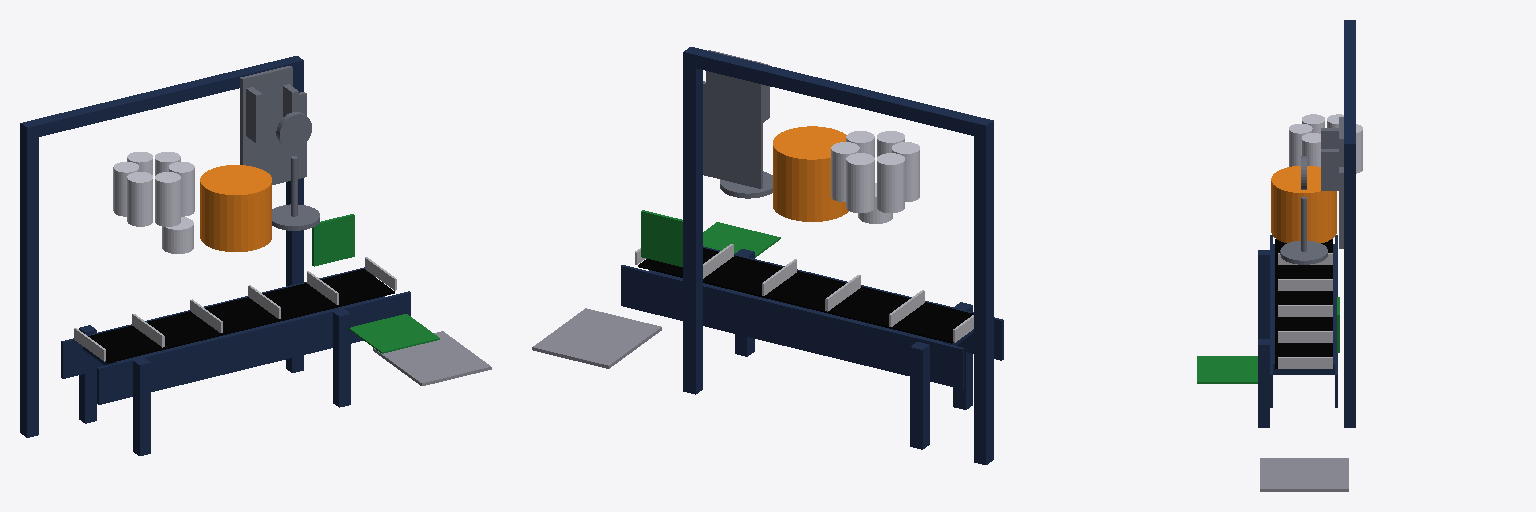
The robot description file, URDF, robot "cinta_vasos":
<?xml version="1.0"?>
<!--
  Cinta indexada de la estacion de embalaje (docs/especificacion.md, seccion 4 y seccion
  5, pasos 9 a 13). 5 estaciones: verificacion antes de llenado, llenado,
  estacion de tapa (con re-verificacion), prensa, descarga.

  Unidades en metros. Casillas de 0.08 m (config/parametros.yaml,
  vasos.separacion_casilla_mm): a diferencia de la cinta de monedas (0.04
  m), aqui cada casilla tiene que encajar la base de un vaso de 62 mm de
  diametro con margen, y con la separacion de 0.04 m que se uso en la fase
  2 dos vasos en casillas vecinas quedaban encimados (no se notaba porque
  la demo de la fase 2 solo ponia un vaso a la vez en la cinta). Si cambia
  el diametro real del vaso (valor PROVISIONAL), hay que regenerar las
  posiciones de separadores/empujador de este archivo y
  `SEPARACION_CASILLA_VASOS_M` / `_ORIGEN_X_VASOS` en sim/mundo.py.

  Estaciones en x local: -0.16, -0.08, 0.00, 0.08, 0.16.

  El tubo de tapas, la prensa y el embudo son SOLO visuales (sin
  <collision>): sirven para que en el GUI se entienda que pasa en cada
  estacion, pero no deben interceptar los rayTest de las barreras ni de la
  cortina de seguridad (sim/sensores_sim.py), que solo ven geometria de
  colision. El empujador tambien es visual-only, igual que los expulsores
  de la cinta de monedas: el desplazamiento real del vaso lo hace
  sim/mundo.py por control de posicion, no por contacto fisico.
-->
<robot name="cinta_vasos">

  <material name="azul_bancada"><color rgba="0.15 0.22 0.35 1.0"/></material>
  <material name="negro_cinta"><color rgba="0.04 0.04 0.04 1.0"/></material>
  <material name="gris_separador"><color rgba="0.75 0.75 0.78 1.0"/></material>
  <material name="verde_empujador"><color rgba="0.15 0.55 0.25 1.0"/></material>
  <material name="gris_salida"><color rgba="0.6 0.6 0.65 0.9"/></material>
  <material name="tubo_tapas"><color rgba="0.95 0.55 0.15 0.45"/></material>
  <material name="acero_prensa"><color rgba="0.45 0.47 0.52 1.0"/></material>
  <material name="embudo"><color rgba="0.8 0.8 0.85 0.5"/></material>

  <link name="bancada">
    <inertial>
      <mass value="4.0"/>
      <inertia ixx="0.02" ixy="0.0" ixz="0.0" iyy="0.06" iyz="0.0" izz="0.06"/>
    </inertial>

    <!-- Maqueta impresa (2026-10-24, maqueta_impresa/scad/cinta_vasos.scad): bancada de PLA (dos mitades,
         vas_bancada_a/b) de x 13 a 383 mm del mundo (2026-10-25: termina 4 mm antes para que el rodillo
         de x 400 corra en su tensor hasta x 396), entre las dos laterales (y -140,3 a -59,7) y de
         z 104 a 119,9 (dentro del lazo de la banda). Antes 400 x 80 x 20 (inventario 19.3). -->
    <visual>
      <geometry><box size="0.370 0.0806 0.0159"/></geometry>
      <origin xyz="-0.002 0 0.01195" rpy="0 0 0"/>
      <material name="azul_bancada"/>
    </visual>
    <collision>
      <geometry><box size="0.370 0.0806 0.0159"/></geometry>
      <origin xyz="-0.002 0 0.01195" rpy="0 0 0"/>
    </collision>
    <!-- Placas laterales impresas (vas_lat_s, vas_lat_n; antes aluminio): 4 mm, z 72 a 120. -->
    <visual><geometry><box size="0.43 0.004 0.048"/></geometry><origin xyz="0 -0.0425 -0.004" rpy="0 0 0"/><material name="azul_bancada"/></visual>
    <visual><geometry><box size="0.43 0.004 0.048"/></geometry><origin xyz="0 0.0425 -0.004" rpy="0 0 0"/><material name="azul_bancada"/></visual>

    <visual>
      <geometry><box size="0.395 0.075 0.002"/></geometry>
      <origin xyz="0 0 0.021" rpy="0 0 0"/>
      <material name="negro_cinta"/>
    </visual>
    <collision>
      <geometry><box size="0.395 0.075 0.002"/></geometry>
      <origin xyz="0 0 0.021" rpy="0 0 0"/>
    </collision>

    <!-- Patas: la cinta de vasos va sobre una mesa de 10 cm (ver
         ALTURA_MESA_VASOS en sim/mundo.py: la canaleta de entrega necesita
         esa altura para que el vaso colgado no toque el piso). Maqueta impresa: 4 tubos 16 x 16 con
         la punta en z 120 a los que se remachan las laterales: (40; -152,5), (315; -152,5),
         (30; -40,5) y la columna +x del portico (315; -40,5), que sube hasta la viga (y -40,5,
         z 400) junto con la columna (-50; -40,5). Antes 4 patas de 14 x 14 en x 0,01 / 0,39
         (inventario 19.2). Marco local: mundo menos (0,20; -0,10; 0,10). -->
    <visual><geometry><box size="0.016 0.016 0.12"/></geometry><origin xyz="-0.16 -0.0525 -0.04" rpy="0 0 0"/><material name="azul_bancada"/></visual>
    <visual><geometry><box size="0.016 0.016 0.12"/></geometry><origin xyz="0.115 -0.0525 -0.04" rpy="0 0 0"/><material name="azul_bancada"/></visual>
    <visual><geometry><box size="0.016 0.016 0.12"/></geometry><origin xyz="-0.17 0.0595 -0.04" rpy="0 0 0"/><material name="azul_bancada"/></visual>
    <visual><geometry><box size="0.016 0.016 0.408"/></geometry><origin xyz="0.115 0.0595 0.104" rpy="0 0 0"/><material name="azul_bancada"/></visual>
    <visual><geometry><box size="0.016 0.016 0.408"/></geometry><origin xyz="-0.25 0.0595 0.104" rpy="0 0 0"/><material name="azul_bancada"/></visual>
    <visual><geometry><box size="0.381 0.016 0.016"/></geometry><origin xyz="-0.0675 0.0595 0.30" rpy="0 0 0"/><material name="azul_bancada"/></visual>

    <!-- Separadores: 6 delimitan las 5 casillas/estaciones, de x=-0.20 a x=0.20 (la banda real lleva 11 a L/11 =
         79,6 mm, 5 en el ramal de abajo, que aqui no se dibuja; cada 80: < 1,2 mm de diferencia). Maqueta impresa:
         75 mm (el ancho de la banda) menos 3 recortados del lado -y (vas_recorte_sep): 72 mm.
         Visual-only a proposito: un separador con colision chocaria con la
         base del vaso cada vez que sim/mundo.py lo reposiciona. -->
    <visual><geometry><box size="0.003 0.072 0.015"/></geometry><origin xyz="-0.20 0.0015 0.0295" rpy="0 0 0"/><material name="gris_separador"/></visual>
    <visual><geometry><box size="0.003 0.072 0.015"/></geometry><origin xyz="-0.12 0.0015 0.0295" rpy="0 0 0"/><material name="gris_separador"/></visual>
    <visual><geometry><box size="0.003 0.072 0.015"/></geometry><origin xyz="-0.04 0.0015 0.0295" rpy="0 0 0"/><material name="gris_separador"/></visual>
    <visual><geometry><box size="0.003 0.072 0.015"/></geometry><origin xyz="0.04 0.0015 0.0295" rpy="0 0 0"/><material name="gris_separador"/></visual>
    <visual><geometry><box size="0.003 0.072 0.015"/></geometry><origin xyz="0.12 0.0015 0.0295" rpy="0 0 0"/><material name="gris_separador"/></visual>
    <visual><geometry><box size="0.003 0.072 0.015"/></geometry><origin xyz="0.20 0.0015 0.0295" rpy="0 0 0"/><material name="gris_separador"/></visual>

    <!-- Tolva sobre la estacion de llenado (x=-0.08): recibe el lote que
         suelta la compuerta de un tubo del almacen y lo lleva al vaso. Los 5
         tubos y el compartimiento "otras" (POSICIONES_CARRUSEL en sim/mundo.py) van justo encima; aqui se dibujan
         como cilindros traslucidos, solo visuales. -->
    <!-- (2026-09-28, fisica vs 3D) Tolva y tubos en el MISMO lugar que sim/mundo.py y el visor:
         tolva de radio 19 mm entre z = TUBO_BASE_Z - 40 mm y TUBO_BASE_Z - 8 mm, justo sobre el
         llenado; los 6 tubos (interior 29 mm + 1 mm de pared) alrededor de centro_carrusel(), en
         reposo (tubo de $50 en la carga), de TUBO_BASE_Z a TUBO_BASE_Z + TUBO_ALTO_M. Antes la
         tolva tenia 50 mm de radio y los tubos estaban centrados en el llenado (no en el carrusel),
         7 mm mas altos: las monedas guardadas quedaban fuera de sus tubos. -->
    <visual>
      <geometry><cylinder radius="0.019" length="0.032"/></geometry>
      <origin xyz="-0.08 0 0.1460" rpy="0 0 0"/>
      <material name="embudo"/>
    </visual>
    <visual><geometry><cylinder radius="0.0155" length="0.058"/></geometry><origin xyz="-0.09650 0.06158 0.1990" rpy="0 0 0"/><material name="embudo"/></visual>
    <visual><geometry><cylinder radius="0.0155" length="0.058"/></geometry><origin xyz="-0.12508 0.04508 0.1990" rpy="0 0 0"/><material name="embudo"/></visual>
    <visual><geometry><cylinder radius="0.0155" length="0.058"/></geometry><origin xyz="-0.12508 0.01208 0.1990" rpy="0 0 0"/><material name="embudo"/></visual>
    <visual><geometry><cylinder radius="0.0155" length="0.058"/></geometry><origin xyz="-0.09650 -0.00442 0.1990" rpy="0 0 0"/><material name="embudo"/></visual>
    <visual><geometry><cylinder radius="0.0155" length="0.058"/></geometry><origin xyz="-0.06792 0.01208 0.1990" rpy="0 0 0"/><material name="embudo"/></visual>
    <visual><geometry><cylinder radius="0.0155" length="0.058"/></geometry><origin xyz="-0.06792 0.04508 0.1990" rpy="0 0 0"/><material name="embudo"/></visual>

    <!-- Tubo vertical de tapas sobre la estacion de tapa (x=0.00). Maqueta impresa (tap_tubo): una
         pieza de PLA, cabezal desde z 225 (13 mm sobre la boca del vaso) y tubo de 86 mm de diametro
         exterior hasta z 300. Antes r 34 de z 0,25 a 0,35 (inventario 19.5). -->
    <visual>
      <geometry><cylinder radius="0.043" length="0.075"/></geometry>
      <origin xyz="0.0 0 0.1625" rpy="0 0 0"/>
      <material name="tubo_tapas"/>
    </visual>

    <!-- Prensa sobre la estacion de prensa (x=0.08), maqueta impresa (tap_pre_*): placa de PLA en
         la cara -y de la viga (x 235-304, y -54,7 a -48,7, z 257-406 del mundo) que sigue hasta x 323
         (z 257-367) frente a la columna t_F5-P2_2, a la que va remachada; los separadores del MG996R
         siguen como costillas (x 240-248,95 y 290,05-299, y -78,2 a -54,7, desde z 330 hasta 393 la
         de -x y 385 la de +x). Leva de 45 mm con 7 de excentricidad (tap_exc: el piston baja 14, sin
         resorte limitador) en el eje del MG996R (z 339,5; dibujada a 0 grados, centro en 346,5) y
         plato de 62 mm abajo en z 229 (piston arriba) con su vastago de 8 mm. Antes: columna + plato
         r 28 en z 0,285 (inventario 19.6). -->
    <visual>
      <geometry><box size="0.069 0.006 0.149"/></geometry>
      <origin xyz="0.0695 0.0483 0.2315" rpy="0 0 0"/>
      <material name="acero_prensa"/>
    </visual>
    <visual><geometry><box size="0.019 0.006 0.110"/></geometry><origin xyz="0.1135 0.0483 0.212" rpy="0 0 0"/><material name="acero_prensa"/></visual>
    <visual><geometry><box size="0.00895 0.0235 0.063"/></geometry><origin xyz="0.044475 0.03355 0.2615" rpy="0 0 0"/><material name="acero_prensa"/></visual>
    <visual><geometry><box size="0.00895 0.0235 0.055"/></geometry><origin xyz="0.094525 0.03355 0.2575" rpy="0 0 0"/><material name="acero_prensa"/></visual>
    <visual>
      <geometry><cylinder radius="0.0225" length="0.008"/></geometry>
      <origin xyz="0.08 0 0.2465" rpy="1.5708 0 0"/>
      <material name="acero_prensa"/>
    </visual>
    <visual>
      <geometry><cylinder radius="0.004" length="0.079"/></geometry>
      <origin xyz="0.08 0 0.1715" rpy="0 0 0"/>
      <material name="acero_prensa"/>
    </visual>
    <visual>
      <geometry><cylinder radius="0.031" length="0.006"/></geometry>
      <origin xyz="0.08 0 0.132" rpy="0 0 0"/>
      <material name="acero_prensa"/>
    </visual>
  </link>

  <!-- ===================== EMPUJADOR DE DESCARGA (estacion 5) =====================
       Reparte el vaso hacia la canaleta de entrega (paso 13, vaso valido con
       tapa) o hacia la bandeja de rechazo (cualquier otro caso). La
       canaleta de entrega real (rieles a 15 grados, seccion 4) se
       construye completa en la fase 6, junto con el vehiculo. -->
  <!-- Maqueta impresa (tap_emp_paleta, 2026-10-24): paleta de 56 x 55 mm (z 138 a 193 del mundo)
       que CORRE en -y (biela-manivela) de y -55 (reposo) a -122,5, en la x de la descarga (0,36).
       Antes: paleta revoluta de 80 mm en (0,32; -0,14) (inventario 19.7). sim/mundo.py la lleva
       hasta el limite superior de la junta y la vuelve. -->
  <link name="empujador_descarga">
    <inertial>
      <mass value="0.01"/>
      <inertia ixx="1e-6" ixy="0.0" ixz="0.0" iyy="1e-6" iyz="0.0" izz="1e-6"/>
    </inertial>
    <visual>
      <geometry><box size="0.056 0.004 0.055"/></geometry>
      <origin xyz="0 0 0" rpy="0 0 0"/>
      <material name="verde_empujador"/>
    </visual>
  </link>
  <joint name="junta_empujador_descarga" type="prismatic">
    <parent link="bancada"/>
    <child link="empujador_descarga"/>
    <origin xyz="0.16 0.045 0.0655" rpy="0 0 0"/>
    <axis xyz="0 -1 0"/>
    <limit lower="0" upper="0.0675" effort="5" velocity="0.5"/>
  </joint>

  <link name="bandeja_rechazo_vasos">
    <inertial>
      <mass value="0.2"/>
      <inertia ixx="1e-5" ixy="0.0" ixz="0.0" iyy="1e-5" iyz="0.0" izz="1e-5"/>
    </inertial>
    <visual>
      <geometry><box size="0.096 0.116 0.004"/></geometry>
      <origin xyz="0 0 0" rpy="0 0 0"/>
      <material name="gris_salida"/>
    </visual>
    <collision>
      <geometry><box size="0.096 0.116 0.004"/></geometry>
      <origin xyz="0 0 0" rpy="0 0 0"/>
    </collision>
  </link>
  <joint name="junta_bandeja_rechazo" type="fixed">
    <parent link="bancada"/>
    <child link="bandeja_rechazo_vasos"/>
    <origin xyz="0.27 0.00 -0.098" rpy="0 0 0"/>
    <!-- (2026-09-28) En el piso al final de la cinta, donde la pone sim/mundo.py
         (posicion_bandeja_rechazo_vasos) y la dibuja el visor; antes estaba al costado
         de la descarga, a 10 cm de altura e inclinada (diseno viejo de dos empujadores). -->
  </joint>

  <!-- Marca de referencia (solo visual) de por donde sale un vaso
       entregado con exito, hacia la canaleta de entrega que se construye
       en la fase 6. -->
  <link name="marca_salida_entrega">
    <inertial>
      <mass value="0.01"/>
      <inertia ixx="1e-6" ixy="0.0" ixz="0.0" iyy="1e-6" iyz="0.0" izz="1e-6"/>
    </inertial>
    <visual>
      <geometry><box size="0.08 0.08 0.002"/></geometry>
      <origin xyz="0 0 0" rpy="0 0 0"/>
      <material name="verde_empujador"/>
    </visual>
  </link>
  <joint name="junta_marca_salida_entrega" type="fixed">
    <parent link="bancada"/>
    <child link="marca_salida_entrega"/>
    <origin xyz="0.16 -0.10 0.001" rpy="0 0 0"/>
  </joint>

</robot>

--- What the picture shows (computed from the rendered views, not written in the file) ---
The picture shows the robot from 3 angles, left to right: view 1: azimuth 30°, elevation 25°; view 2: azimuth 150°, elevation 25°; view 3: azimuth 270°, elevation 25°; orthographic projection.
Model cinta_vasos with 4 links and 3 joints (1 prismatic, 2 fixed), rooted at bancada, posed every joint at zero.
Links seen in each view (by area): view 1: bancada, bandeja_rechazo_vasos, marca_salida_entrega, empujador_descarga; view 2: bancada, bandeja_rechazo_vasos, empujador_descarga, marca_salida_entrega; view 3: bancada, bandeja_rechazo_vasos, marca_salida_entrega.
Link boxes in pixels (<box>): bancada: <box>20,56,410,455</box>; bandeja_rechazo_vasos: <box>373,331,491,385</box>; marca_salida_entrega: <box>349,314,439,353</box>; empujador_descarga: <box>312,214,354,266</box>; bancada: <box>621,47,1003,464</box>; bandeja_rechazo_vasos: <box>532,308,661,368</box>; empujador_descarga: <box>641,210,682,266</box>; marca_salida_entrega: <box>703,222,780,257</box>; bancada: <box>1258,20,1362,427</box>; bandeja_rechazo_vasos: <box>1260,458,1348,491</box>; marca_salida_entrega: <box>1197,356,1257,383</box>.
Bounding box of the posed robot: 0.576 × 0.2171 × 0.408 m (x, y, z).
Geometry: primitives only (box / cylinder / sphere), no mesh files.
